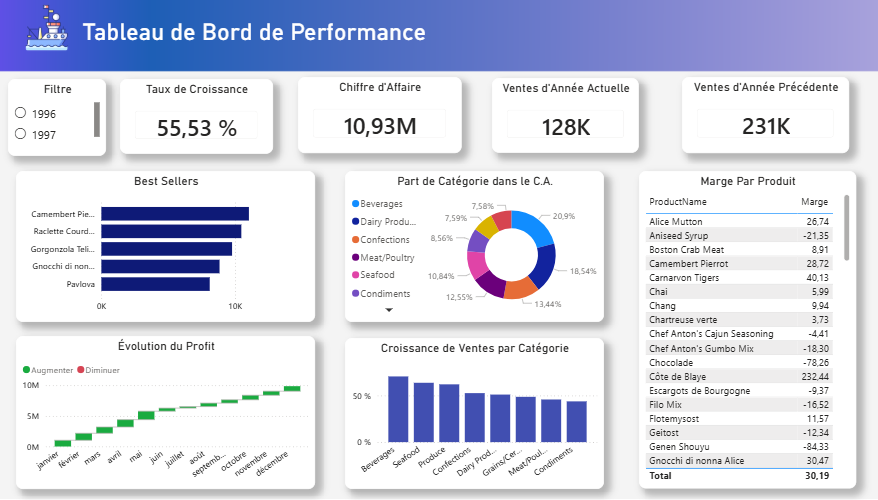

Layout of this report page (visuals, bound fields, positions):
{"tool":"powerbi","page":{"name":"Page 1","canvas":[1280,720],"ordinal":0},"visuals":[{"type":"listSlicer","title":"Filtre","fields":{"Values":["Dim Date.Year"]},"box":[13.6,121.2,139.4,109.1],"z":0},{"type":"cardVisual","title":"Taux de Croissance","fields":{"Data":["Mesures.Croissance%"]},"box":[172.7,121.2,216.6,106],"z":1000},{"type":"cardVisual","title":"Chiffre d''Affaire","fields":{"Data":["Mesures.CA"]},"box":[425.7,119.7,231.8,107.6],"z":2000},{"type":"cardVisual","title":"Ventes d''Année Actuelle","fields":{"Data":["Mesures.Quantite_YTD"]},"box":[700.2,120.5,208.3,106.3],"z":3000},{"type":"cardVisual","title":"Ventes d''Année Précédente","fields":{"Data":["Mesures.Quantite_Last_YtD"]},"box":[969.4,119.1,236.7,107.7],"z":4000},{"type":"clusteredBarChart","title":"Best Sellers","fields":{"Category":["Dim Product.ProductName"],"Y":["Mesures.Total_Ventes"]},"box":[25.8,253,424.1,213.6],"z":5000},{"type":"clusteredColumnChart","title":"Croissance de Ventes par Catégorie","fields":{"Category":["Dim Product.CategoryName"],"Y":["Mesures.Croissance%"]},"box":[492.3,489.3,366.6,213.6],"z":6000},{"type":"donutChart","title":"Part de Catégorie dans le C.A.","fields":{"Y":["Mesures.CA"],"Category":["Dim Product.CategoryName"]},"box":[492.3,253,366.6,213.6],"z":7000},{"type":"waterfallChart","title":"Évolution du Profit","fields":{"Category":["Dim Date.MonthName"],"Y":["Mesures.Profit"]},"box":[25.8,486.2,424.1,216.6],"z":8000},{"type":"tableEx","title":"Marge Par Produit","fields":{"Values":["Dim Product.ProductName","Mesures.Marge"]},"box":[908.9,253,307.5,449.9],"z":9000},{"type":"textbox","box":[114.8,31.2,616.5,59.5],"z":10000},{"type":"image","box":[0,0,137.8,98.5],"z":11000}]}

Visuals, with their boxes in screenshot pixels (x1, y1, x2, y2), scaled from the page's 1280x720 canvas onto the 878x500 screenshot:
"Filtre" listSlicer: 9 84 105 160
"Taux de Croissance" cardVisual: 118 84 267 158
"Chiffre d''Affaire" cardVisual: 292 83 451 158
"Ventes d''Année Actuelle" cardVisual: 480 84 623 158
"Ventes d''Année Précédente" cardVisual: 665 83 827 158
"Best Sellers" clusteredBarChart: 18 176 309 324
"Croissance de Ventes par Catégorie" clusteredColumnChart: 338 340 589 488
"Part de Catégorie dans le C.A." donutChart: 338 176 589 324
"Évolution du Profit" waterfallChart: 18 338 309 488
"Marge Par Produit" tableEx: 623 176 834 488
textbox: 79 22 502 63
image: 0 0 95 68
